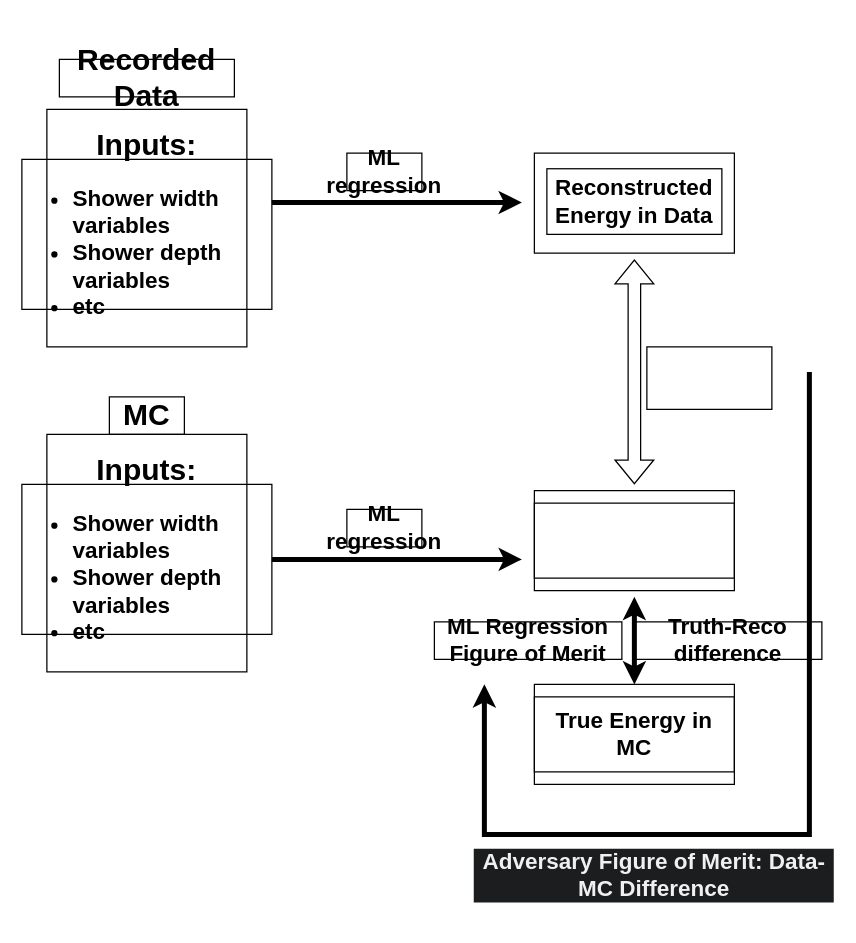
The diagram is 856 pixels wide and 943 high, and some of its shapes have lost their labels. The shapes that lost their labels are listed below. From the top down, each one's centre as x and y in pixels, then its label:
At (x=709, y=377): "Adversary: Is this data or MC?".
At (x=633, y=540): "Reconstructed Energy in MC".
